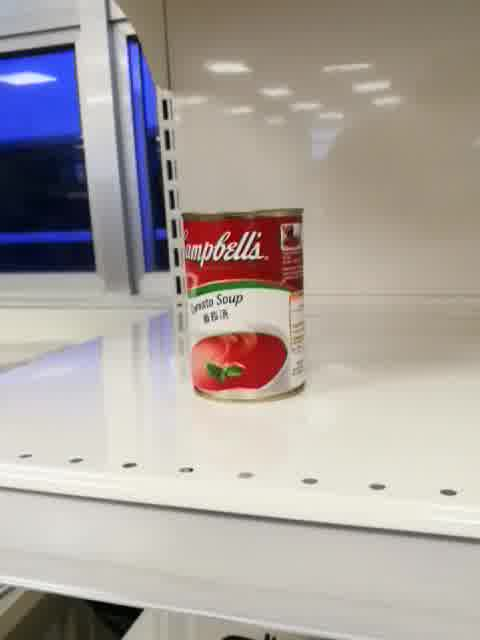tomatosoup: (181, 207, 309, 405)
